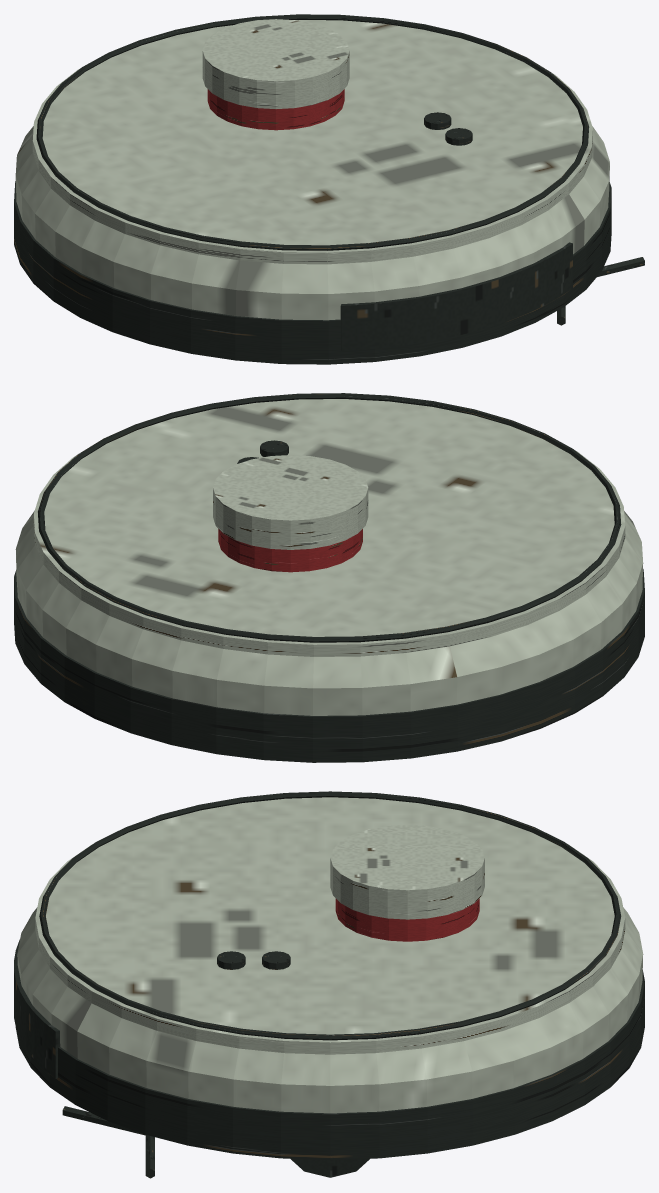
The model's file is robot_vacuum.obj.
3 views of the same model, one above another, from view 1: azimuth 30°, elevation 25°; view 2: azimuth 150°, elevation 25°; view 3: azimuth 270°, elevation 25° (orthographic). The views are drawn at different scales.
Parts seen in each view (by area): view 1: robot_vacuum_MaterialGroup_00, robot_vacuum_MaterialGroup_01, robot_vacuum_MaterialGroup_02; view 2: robot_vacuum_MaterialGroup_00, robot_vacuum_MaterialGroup_01, robot_vacuum_MaterialGroup_02; view 3: robot_vacuum_MaterialGroup_00, robot_vacuum_MaterialGroup_01, robot_vacuum_MaterialGroup_02.
Boxes of the visible parts, x1,y1,x2,y2 form: robot_vacuum_MaterialGroup_00: [15, 19, 609, 320]; robot_vacuum_MaterialGroup_01: [14, 14, 644, 364]; robot_vacuum_MaterialGroup_02: [207, 89, 344, 130]; robot_vacuum_MaterialGroup_00: [15, 399, 643, 715]; robot_vacuum_MaterialGroup_01: [14, 393, 644, 762]; robot_vacuum_MaterialGroup_02: [218, 529, 362, 572]; robot_vacuum_MaterialGroup_00: [17, 797, 643, 1113]; robot_vacuum_MaterialGroup_01: [14, 791, 644, 1178]; robot_vacuum_MaterialGroup_02: [335, 898, 479, 941].
Bounding box in the file's own units: 0.35 × 0.138 × 0.3509.
3 materials, 3 textured.
